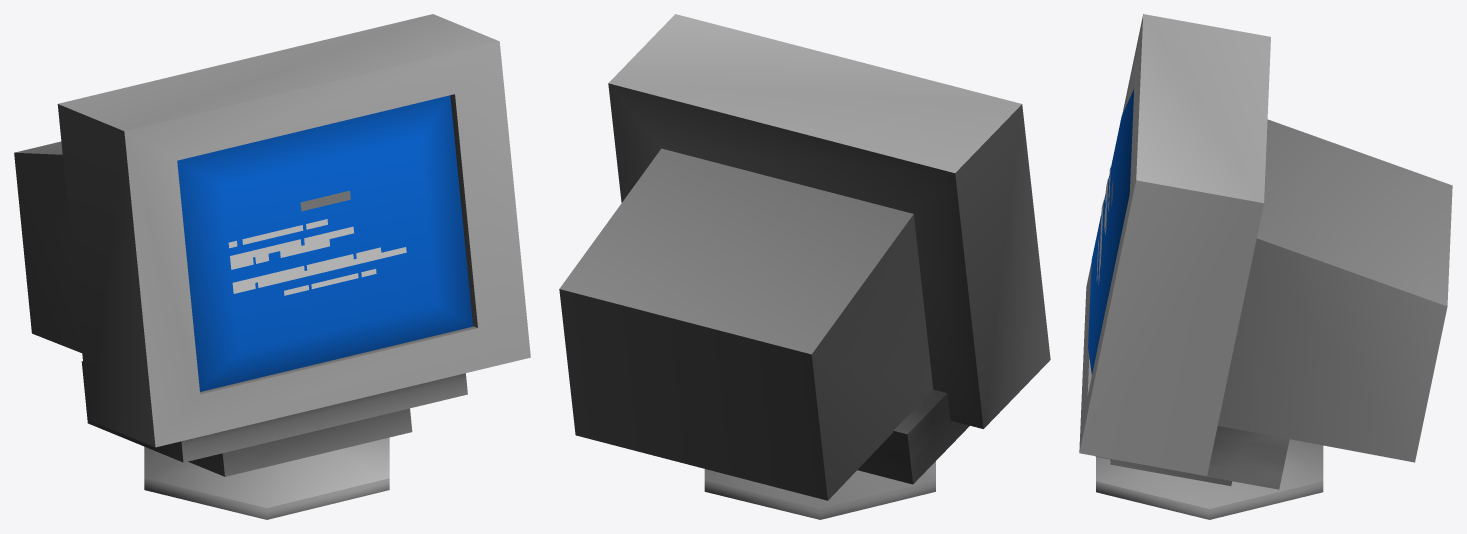
Rendered from human-electronics-crt-monitor_v1.fbx.
3 views of the same model, side by side, from view 1: azimuth 30°, elevation 25°; view 2: azimuth 150°, elevation 25°; view 3: azimuth 270°, elevation 25° (orthographic). The views are drawn at different scales.
Visible parts, largest first — view 1: CRT Monitor; view 2: CRT Monitor; view 3: CRT Monitor.
Part boxes in pixels (x1=…): CRT Monitor: x1=14, y1=14, x2=530, y2=519; CRT Monitor: x1=559, y1=14, x2=1050, y2=519; CRT Monitor: x1=1079, y1=14, x2=1452, y2=519.
Size of the model in its own units: 0.3911 by 0.4 by 0.3641.
